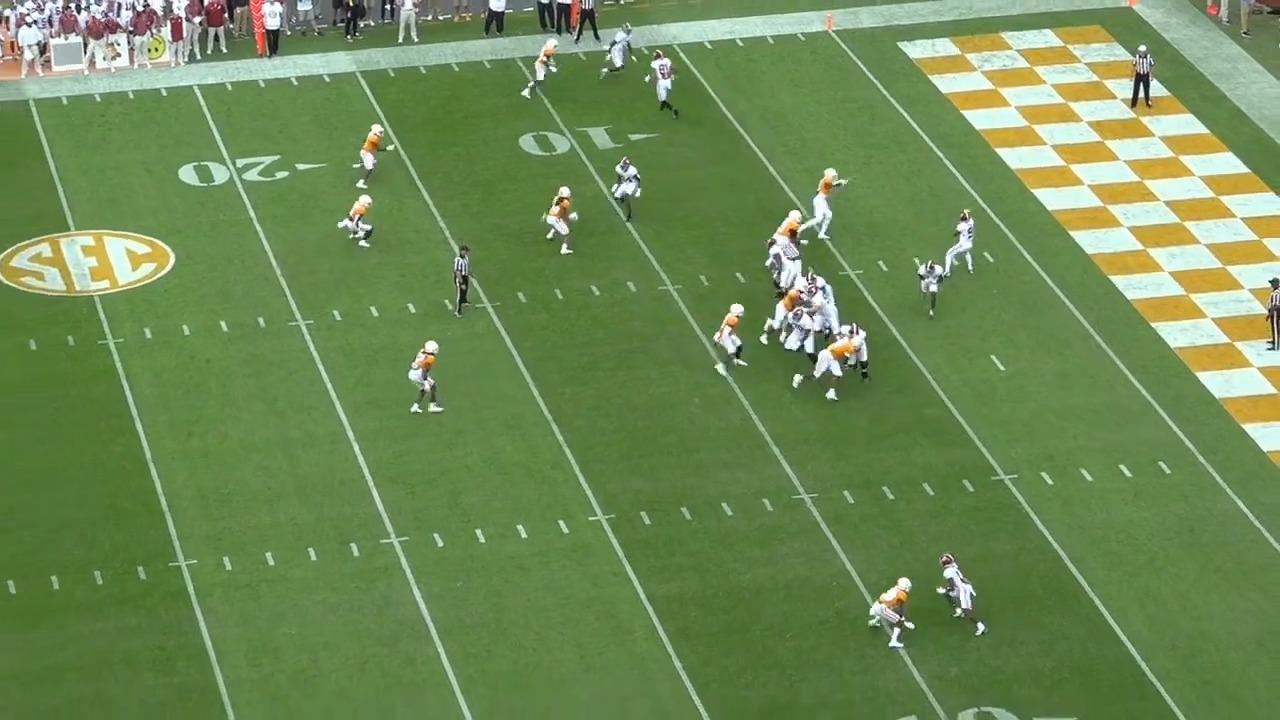defense: (794, 328, 851, 402), (800, 169, 853, 245), (758, 274, 812, 348), (870, 572, 920, 650), (708, 301, 748, 378), (410, 335, 448, 416), (545, 180, 585, 256), (767, 204, 811, 270), (350, 118, 389, 189), (520, 37, 562, 102), (334, 189, 374, 249)
oline: (797, 270, 840, 337), (767, 238, 810, 298), (798, 284, 841, 338), (839, 322, 875, 385), (785, 304, 824, 360)
qb: (948, 205, 985, 280)
ref: (450, 243, 477, 322), (1129, 45, 1158, 115), (572, 1, 605, 50), (1263, 273, 1279, 353), (1268, 279, 1280, 355)
skill: (931, 549, 988, 638), (597, 25, 639, 89), (648, 49, 683, 124), (613, 153, 648, 225), (910, 257, 943, 324)
